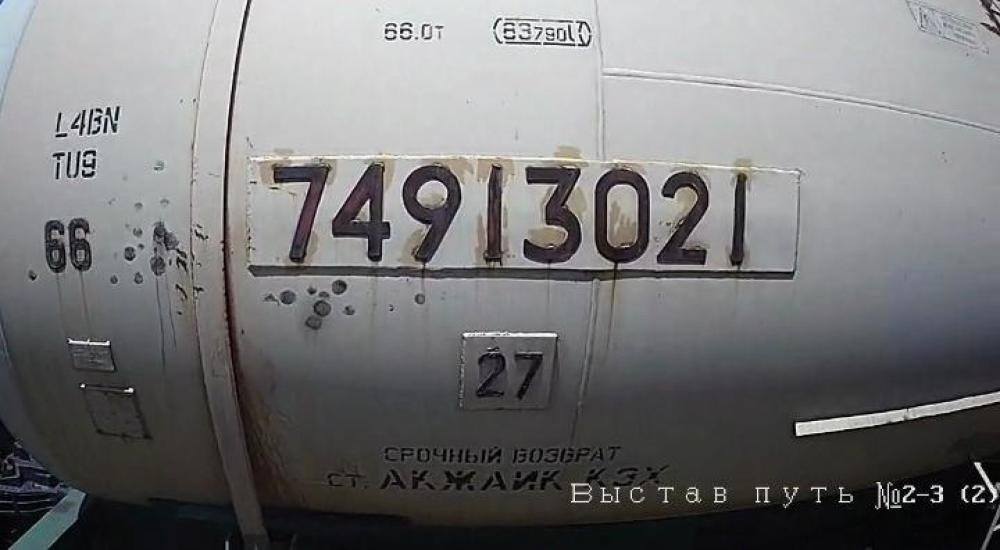Wagon-number: (267, 156, 752, 273)
